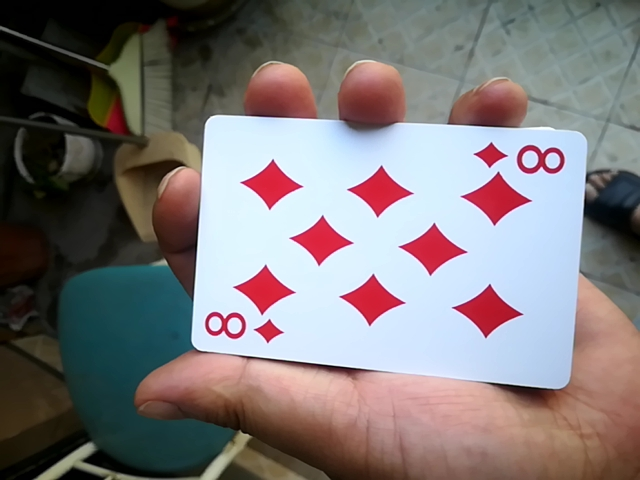fk 8: (185, 109, 591, 387)
